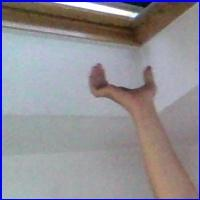space: (82, 57, 162, 111)
